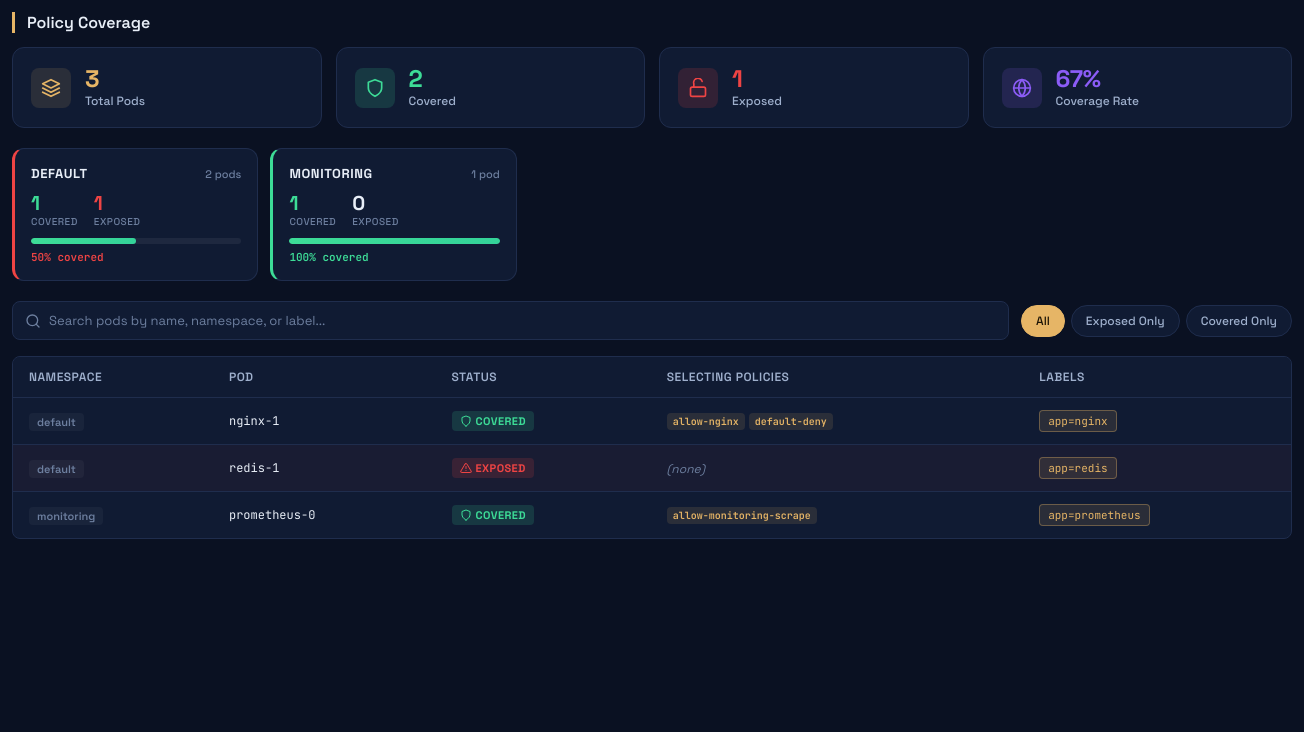
Test case: PolicyCoveragePanel › filters to show exposed pods only when chip clicked
What coordinates should you click on to do the following:
click the button "Exposed Only"
I would click on:
 (1125, 321)
Its box is x1=1071 y1=305 x2=1180 y2=337.
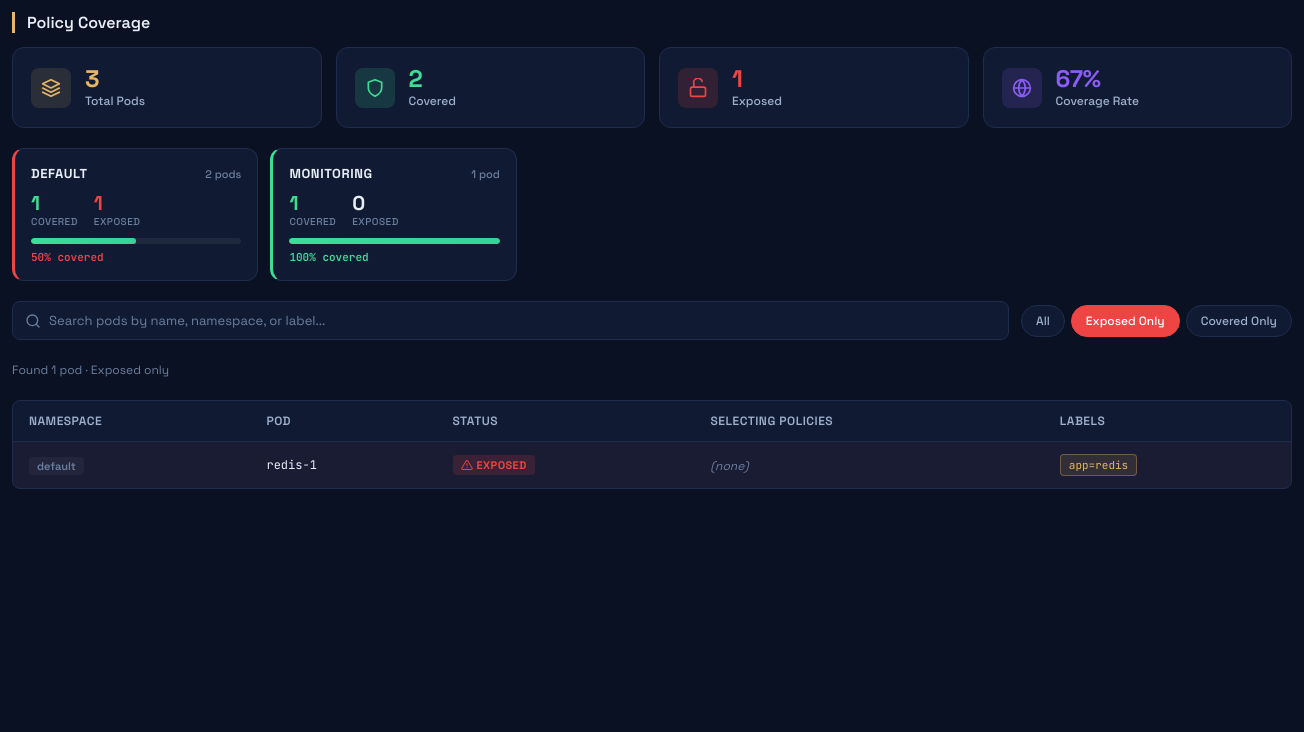
expect the text "redis-1" is shown: met, box x1=250 y1=442 x2=437 y2=488
expect the text "nginx-1" is gone: met
expect the text "prometheus-0" is gone: met
